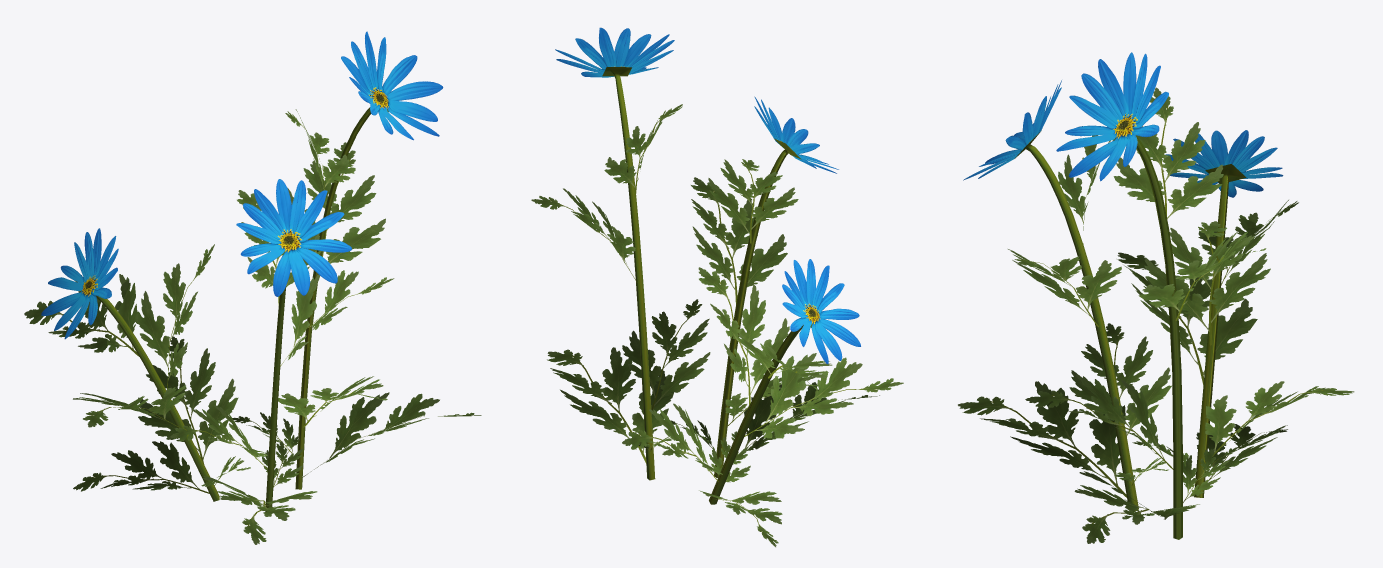
Rendered from purple.glb.
3 views of the same model, side by side, from view 1: azimuth 30°, elevation 25°; view 2: azimuth 150°, elevation 25°; view 3: azimuth 270°, elevation 25° (orthographic). The views are drawn at different scales.
Parts seen in each view (by area): view 1: Flower; view 2: Flower; view 3: Flower.
Part boxes in pixels (box(x1,y1,x2,y2)): Flower: box(24, 31, 481, 544); Flower: box(531, 27, 903, 547); Flower: box(958, 52, 1354, 543).
Size of the model in its own units: 0.4282 by 0.4758 by 0.3486.
Materials: 3 (3 with a texture image).
